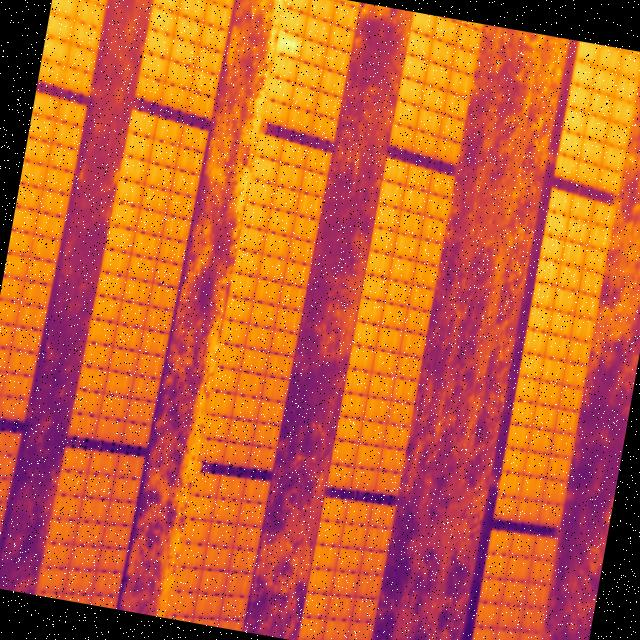Hotspot: (276, 32, 303, 57)
